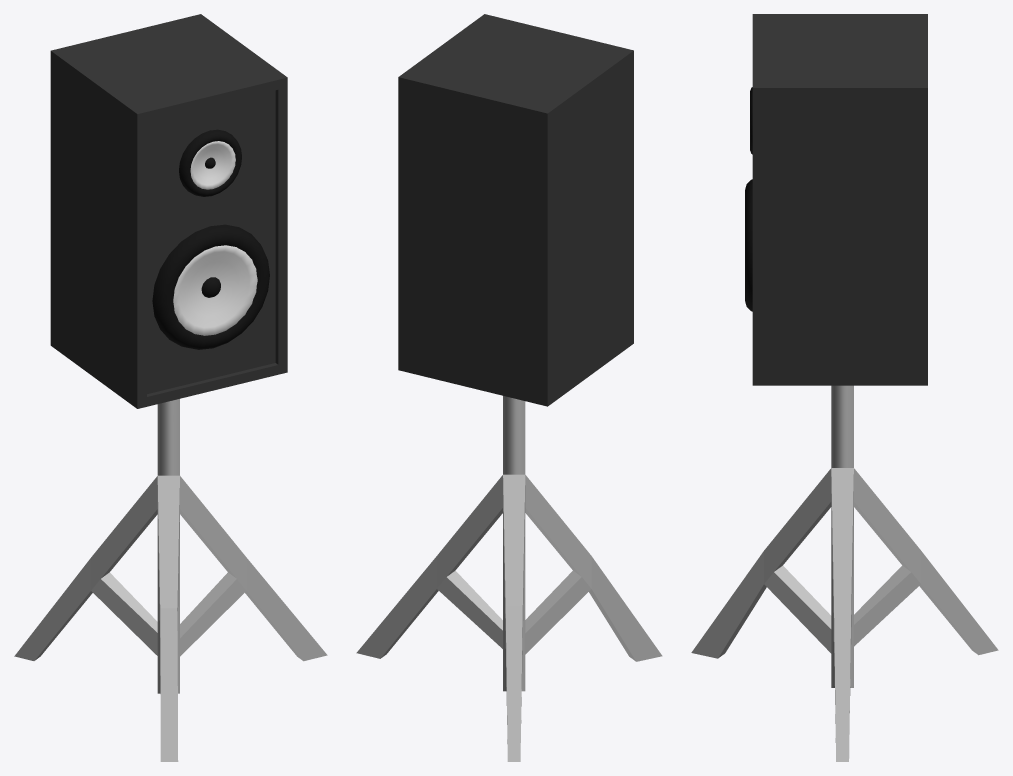
Rendered from Speaker.FBX.
3 renders of one model, left to right at view 1: azimuth 30°, elevation 25°; view 2: azimuth 150°, elevation 25°; view 3: azimuth 270°, elevation 25°, orthographic.
Visible parts, largest first — view 1: Speaker, SpeakerStand; view 2: Speaker, SpeakerStand; view 3: Speaker, SpeakerStand.
Part boxes in pixels (bbox=[...]): Speaker: bbox=[50, 14, 287, 408]; SpeakerStand: bbox=[14, 399, 327, 761]; Speaker: bbox=[398, 14, 633, 406]; SpeakerStand: bbox=[356, 396, 662, 761]; Speaker: bbox=[745, 14, 927, 385]; SpeakerStand: bbox=[691, 385, 998, 761].
Bounding box in the file's own units: 12.57 × 31.94 × 14.04.
Materials: 1 (1 with a texture image).
